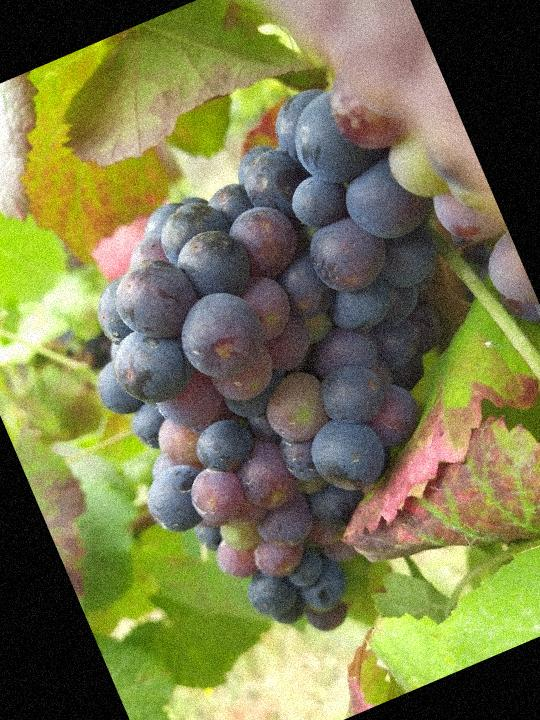grape: (14, 64, 540, 682)
